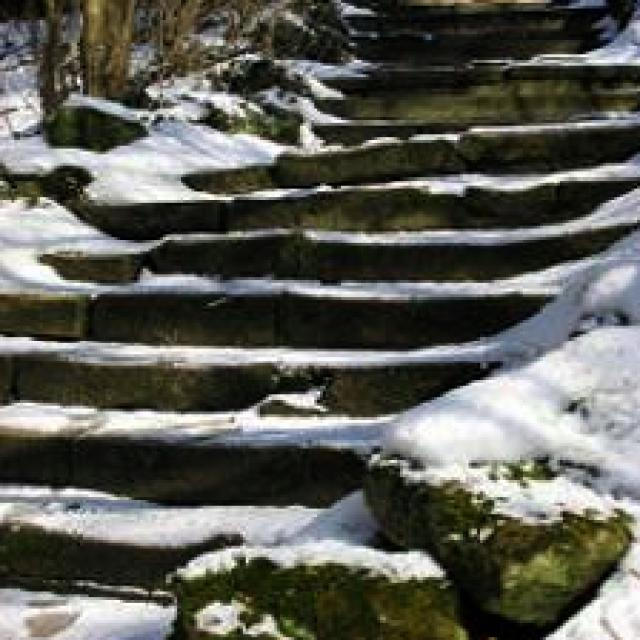upstair: (7, 235, 401, 578)
